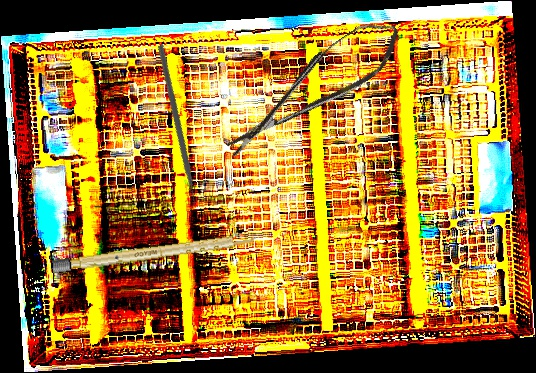Chopper: (87, 43, 260, 217)
Micro Scissor: (212, 9, 412, 167)
Scalpel Handle: (52, 231, 257, 274)
